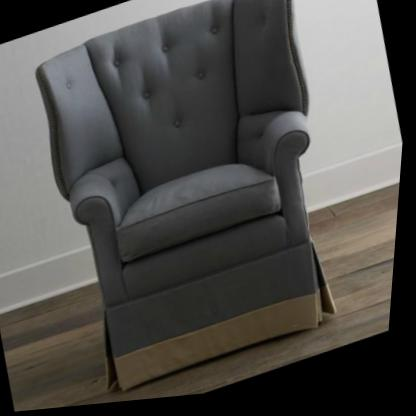Sofa: (4, 0, 379, 414)
